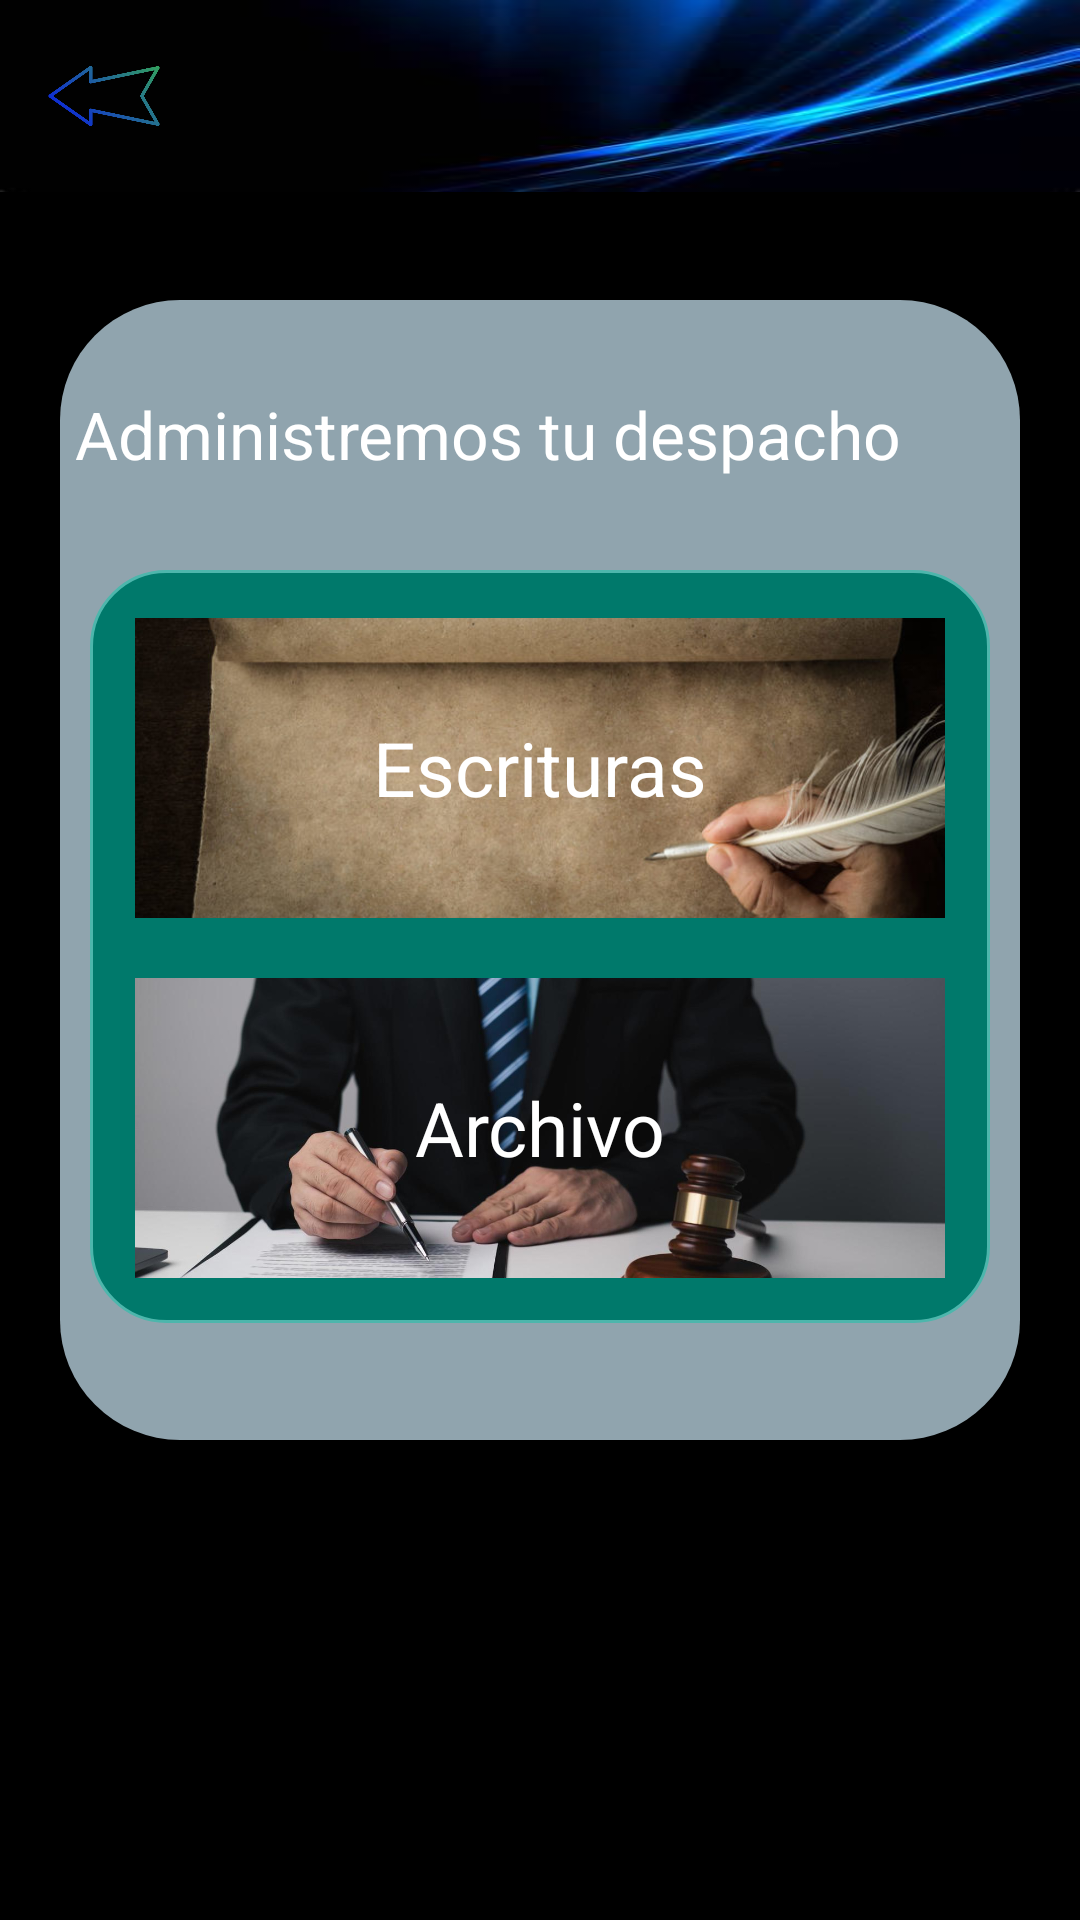

Icons on this 1080*1920 Android screen, each with its box as detection(x1, y1, x2, y2):
back: detection(0, 66, 160, 192)
